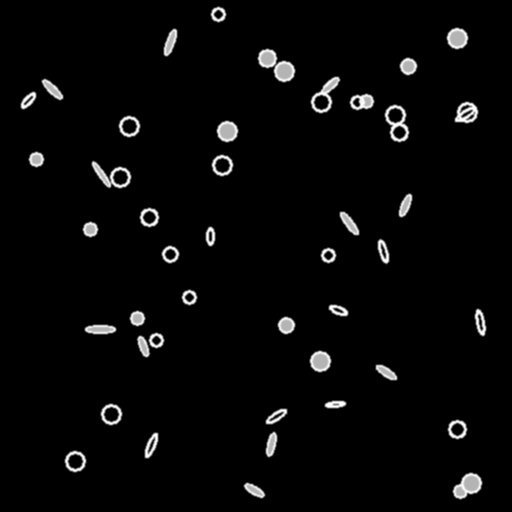pseudomonas: (338, 210, 360, 236), (91, 161, 111, 187), (41, 79, 63, 99), (320, 75, 340, 95), (375, 363, 397, 381), (265, 407, 287, 425), (454, 105, 476, 123), (163, 28, 177, 56), (397, 194, 413, 216), (243, 482, 265, 498), (376, 239, 390, 263), (144, 433, 158, 457), (19, 91, 37, 109), (136, 335, 150, 357), (328, 303, 348, 317), (265, 433, 277, 455), (475, 310, 485, 334), (86, 325, 114, 332), (325, 401, 345, 407), (206, 228, 213, 244)
synechocystis: (386, 106, 404, 124), (213, 156, 231, 174), (218, 122, 236, 140), (448, 29, 466, 47), (458, 103, 476, 121), (111, 168, 129, 186), (120, 117, 138, 135), (275, 62, 293, 80), (312, 93, 330, 111), (311, 352, 329, 370), (66, 452, 84, 470), (462, 474, 480, 492), (102, 405, 120, 423), (449, 421, 465, 437), (259, 50, 275, 66), (391, 124, 407, 140), (141, 209, 157, 225), (401, 59, 415, 73), (163, 247, 177, 261), (279, 318, 293, 332), (454, 485, 466, 497), (131, 312, 143, 324), (30, 153, 42, 165), (150, 334, 162, 346), (183, 291, 195, 303), (322, 249, 334, 261), (360, 95, 372, 107), (351, 96, 363, 108), (212, 8, 224, 20), (84, 223, 96, 235)
